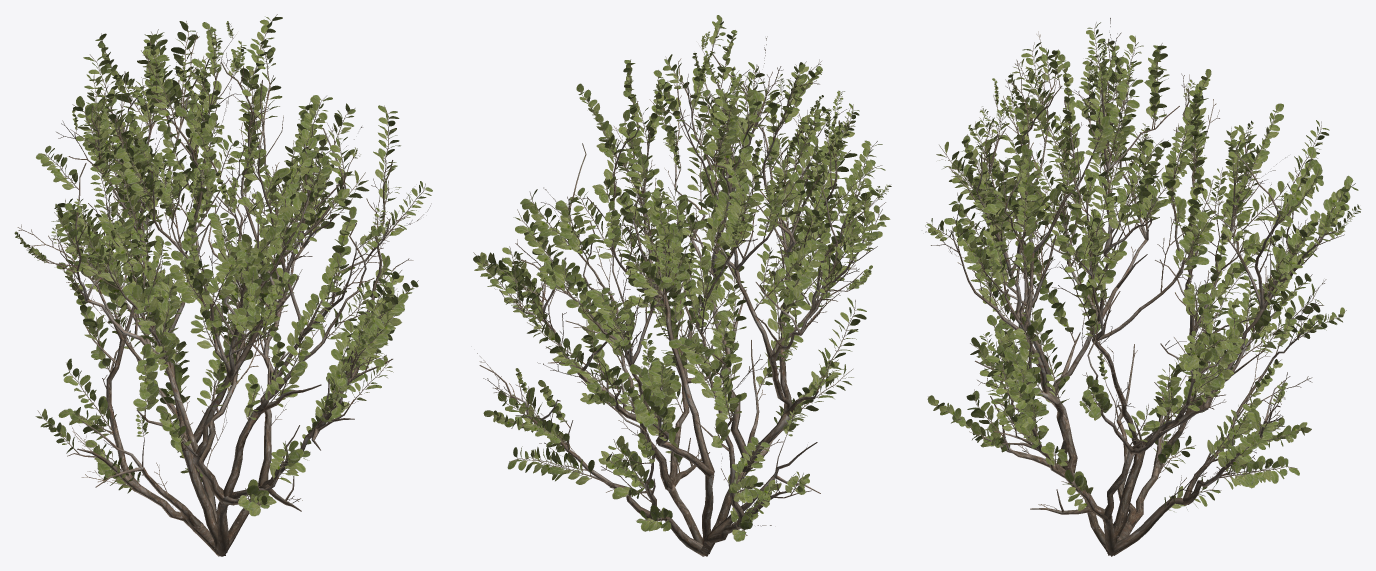
File: UE_searsia_lucida_b.gltf
3 renders of one model, left to right at view 1: azimuth 30°, elevation 25°; view 2: azimuth 150°, elevation 25°; view 3: azimuth 270°, elevation 25°, orthographic. The views are drawn at different scales.
Visible parts, largest first — view 1: searsia_lucida_b; view 2: searsia_lucida_b; view 3: searsia_lucida_b.
Boxes of the visible parts, bbox=[...] form: searsia_lucida_b: bbox=[14, 14, 432, 556]; searsia_lucida_b: bbox=[473, 15, 891, 556]; searsia_lucida_b: bbox=[925, 18, 1361, 556].
Size of the model in its own units: 1.46 by 1.99 by 1.52.
3 materials, 3 textured.
